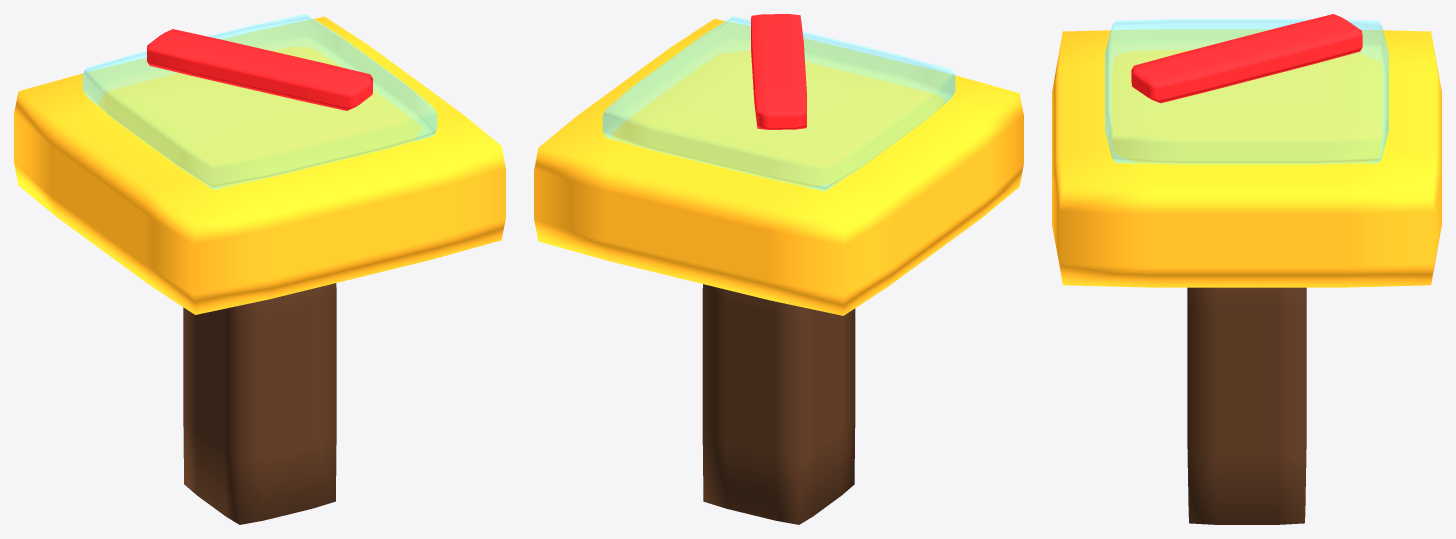
The model's file is compass-quantum.glb.
3 renders of one model, left to right at view 1: azimuth 30°, elevation 25°; view 2: azimuth 150°, elevation 25°; view 3: azimuth 270°, elevation 25°, orthographic. The views are drawn at different scales.
Visible parts, largest first — view 1: Body, Grip, Dial, Needle; view 2: Body, Dial, Grip, Needle; view 3: Body, Dial, Grip, Needle.
Boxes of the visible parts, <box> form: Body: <box>14,16,505,314</box>; Grip: <box>183,283,336,524</box>; Dial: <box>82,14,437,189</box>; Needle: <box>147,29,372,110</box>; Body: <box>534,18,1023,315</box>; Dial: <box>602,16,955,190</box>; Grip: <box>702,284,855,524</box>; Needle: <box>751,14,806,129</box>; Body: <box>1052,29,1441,287</box>; Dial: <box>1105,19,1388,164</box>; Grip: <box>1187,287,1306,524</box>; Needle: <box>1131,14,1362,103</box>.
Bounding box in the file's own units: 0.85 × 1.09 × 0.85.
